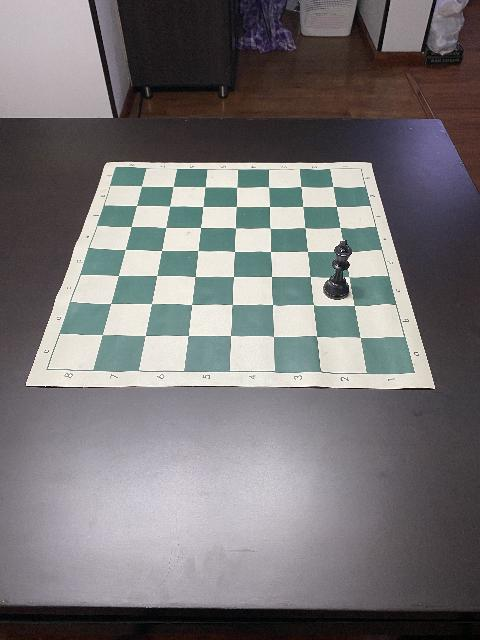black-king: (322, 238, 354, 300)
board: (26, 160, 436, 390)
